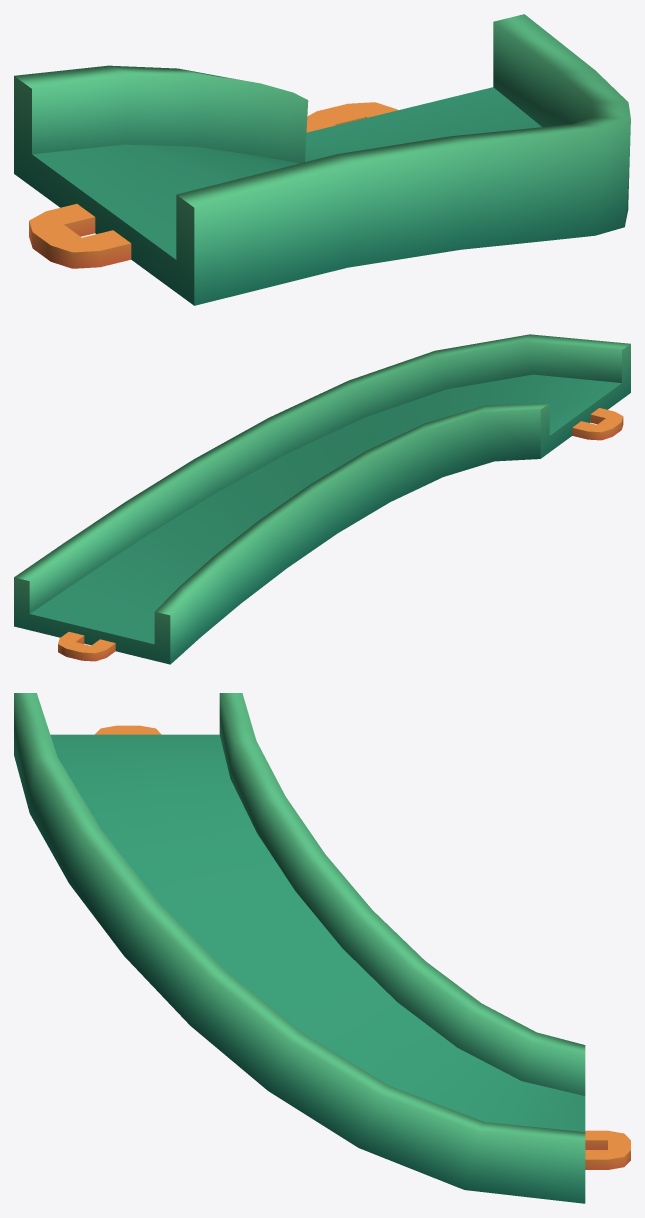
Rendered from track-narrow-corner-small-ramp.fbx.
3 renders of one model, top to bottom at view 1: azimuth 30°, elevation 25°; view 2: azimuth 150°, elevation 25°; view 3: azimuth 270°, elevation 25°, orthographic. The views are drawn at different scales.
Visible parts, largest first — view 1: track-narrow-corner-small-ramp; view 2: track-narrow-corner-small-ramp; view 3: track-narrow-corner-small-ramp.
Boxes of the visible parts, <box> form: track-narrow-corner-small-ramp: <box>14,14,630,305</box>; track-narrow-corner-small-ramp: <box>14,334,630,664</box>; track-narrow-corner-small-ramp: <box>14,693,630,1203</box>.
Size of the model in its own units: 270 by 130 by 270.
